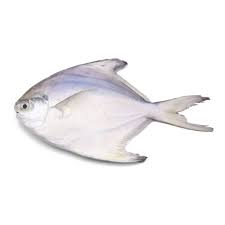Ikan Bawal: (13, 56, 208, 166)
